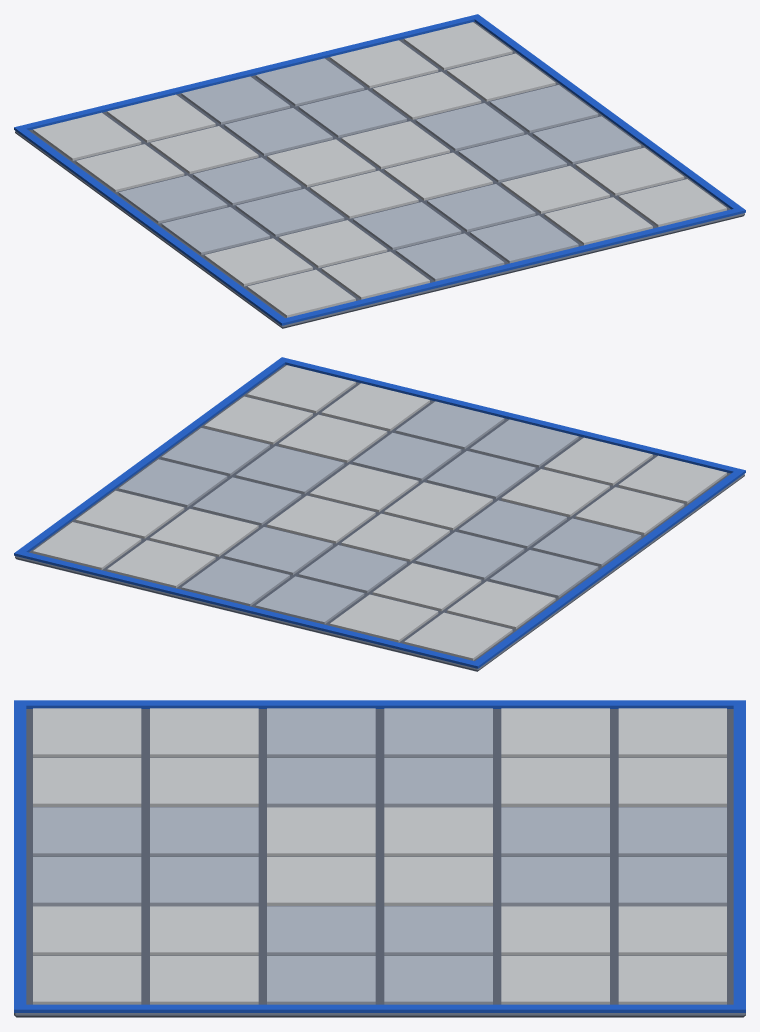
The model's file is mint-plotfloor.glb.
3 views of the same model, one above another, from view 1: azimuth 30°, elevation 25°; view 2: azimuth 150°, elevation 25°; view 3: azimuth 270°, elevation 25° (orthographic). The views are drawn at different scales.
Visible parts, largest first — view 1: mint-plotfloor; view 2: mint-plotfloor; view 3: mint-plotfloor.
Part boxes in pixels (<box>): mint-plotfloor: <box>14,14,745,328</box>; mint-plotfloor: <box>14,357,745,671</box>; mint-plotfloor: <box>14,700,745,1017</box>.
Size of the model in its own units: 6 by 0.08 by 6.
